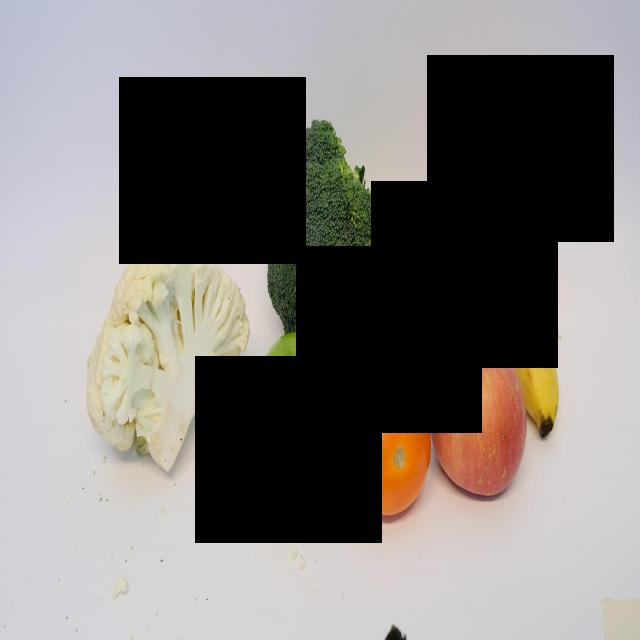apple: (253, 331, 348, 492), (434, 345, 526, 494)
banana: (399, 217, 564, 430)
broccoli: (259, 107, 407, 394)
cauliflower: (86, 218, 250, 472)
tomato: (346, 366, 429, 527)
